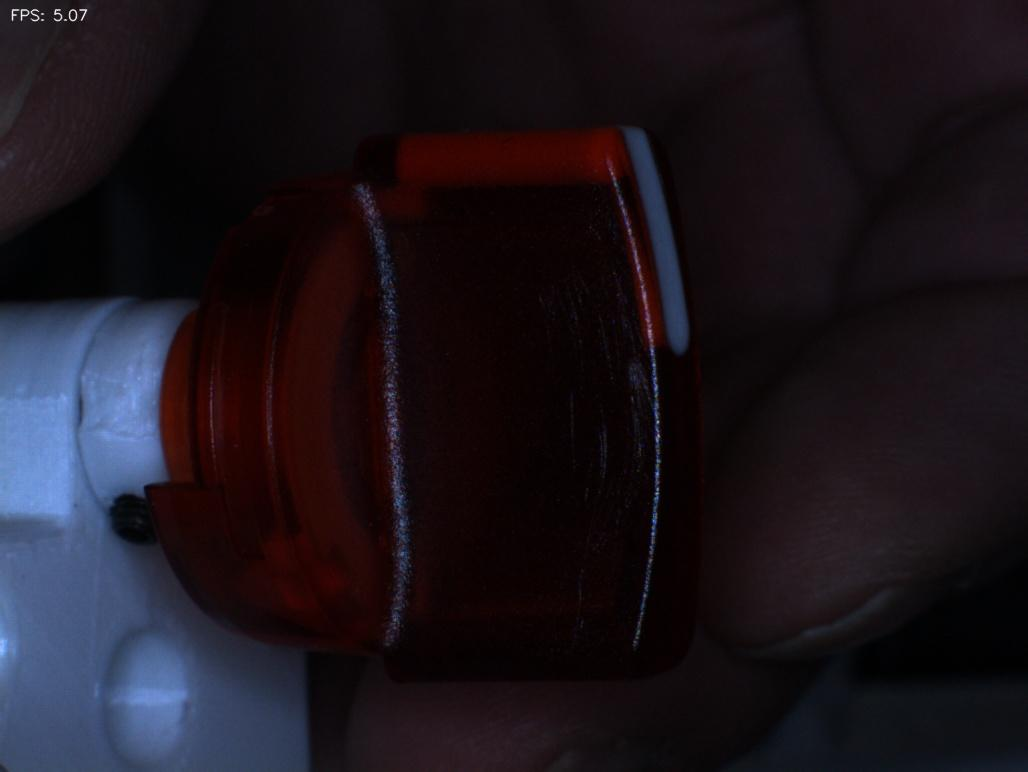Givrage: (538, 257, 658, 505)
